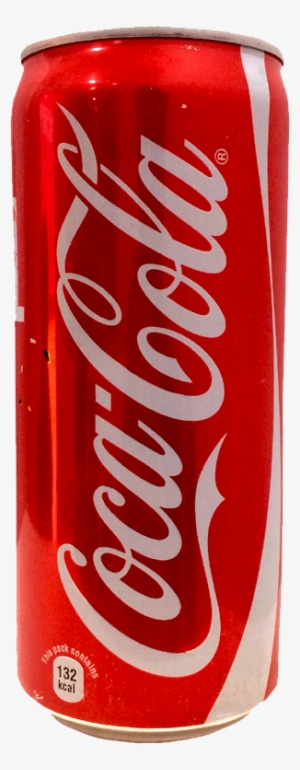coca_cola_can: (12, 27, 287, 742)
